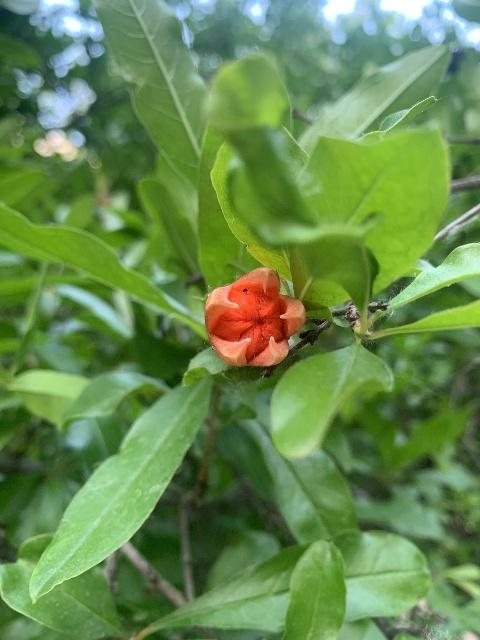flower: (203, 267, 304, 366)
